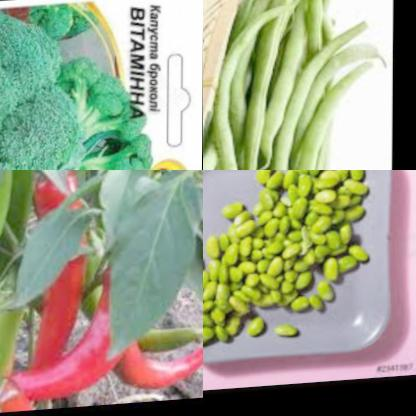beans: (203, 0, 377, 170), (203, 170, 369, 346)
broccoli: (0, 14, 89, 170), (54, 73, 157, 170)
hot pepper: (0, 252, 148, 412), (29, 170, 95, 379), (103, 312, 203, 398), (0, 170, 47, 305), (111, 308, 203, 361), (0, 277, 27, 414)
